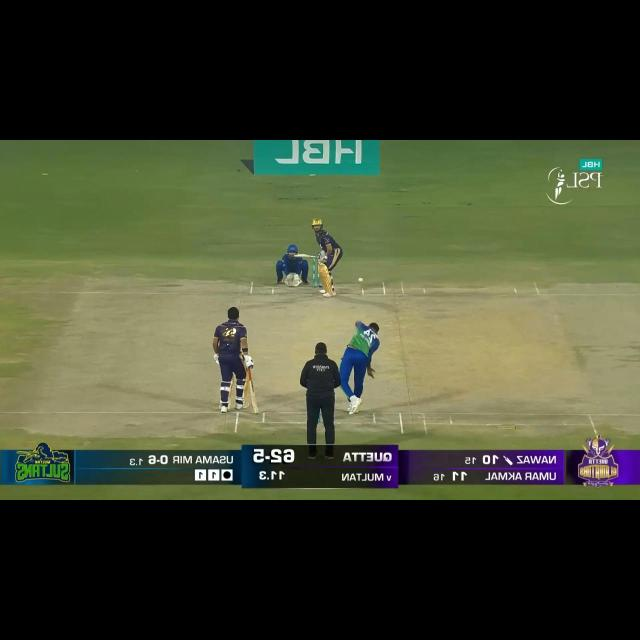bat: (247, 378, 262, 415), (294, 250, 315, 261)
toe: (251, 402, 261, 416), (294, 253, 301, 259)
